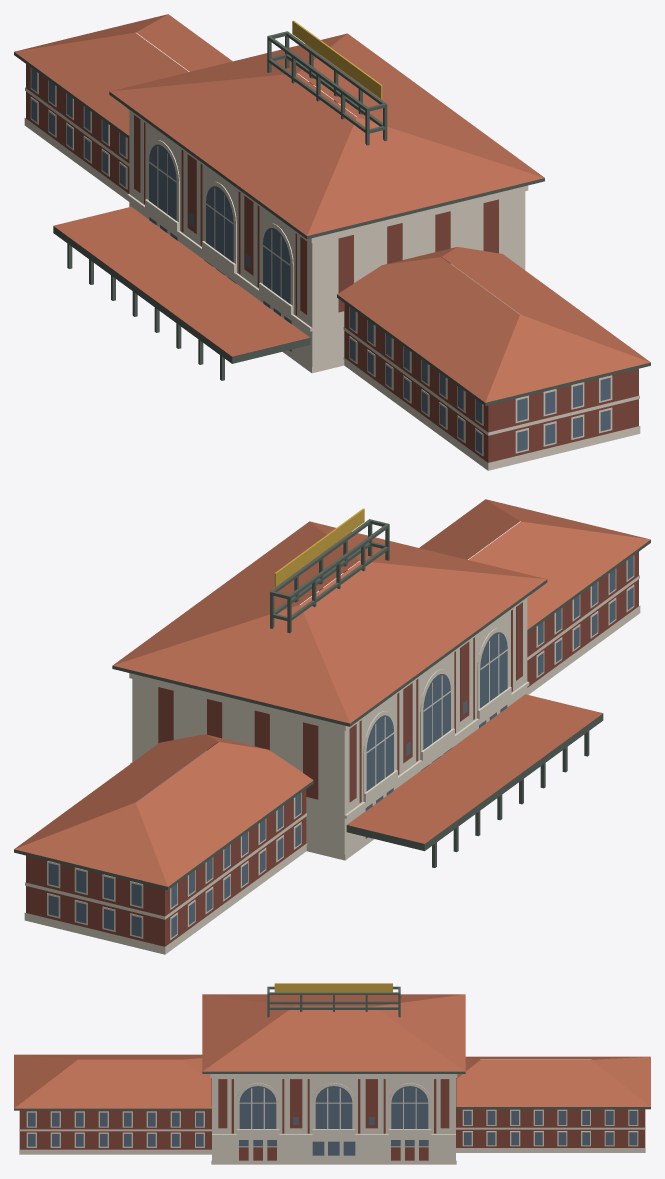
Rendered from slc-rio-grande-depot.glb.
3 renders of one model, top to bottom at view 1: azimuth 30°, elevation 25°; view 2: azimuth 150°, elevation 25°; view 3: azimuth 270°, elevation 25°, orthographic. The views are drawn at different scales.
Visible parts, largest first — view 1: Rio Grande Depot; view 2: Rio Grande Depot; view 3: Rio Grande Depot.
Part boxes in pixels (x1,y1,x2,y2): Rio Grande Depot: [14, 14, 650, 470]; Rio Grande Depot: [14, 499, 650, 954]; Rio Grande Depot: [14, 983, 650, 1164].
Bounding box in the file's own units: 48.2 × 34 × 131.
